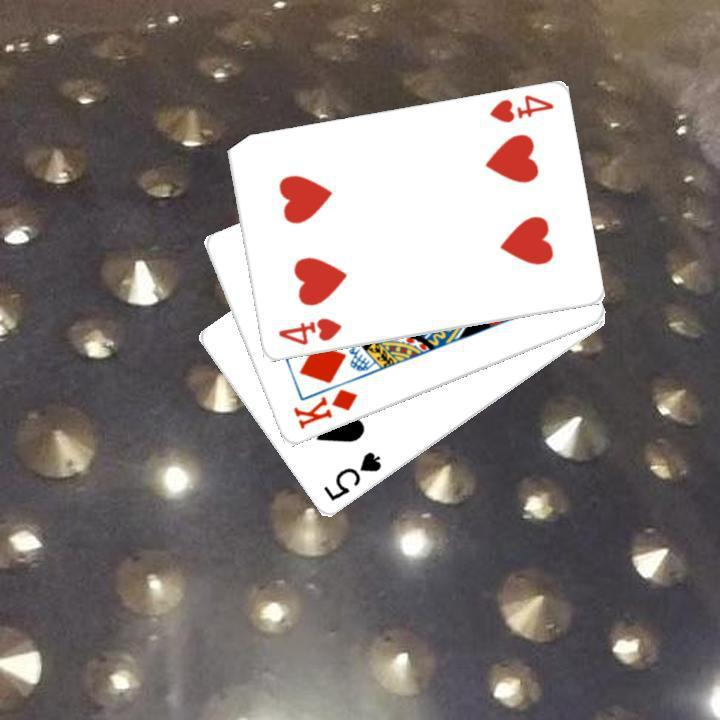4: (485, 91, 555, 126), (274, 314, 343, 348)
5: (319, 448, 384, 504)
K: (288, 385, 360, 432)
